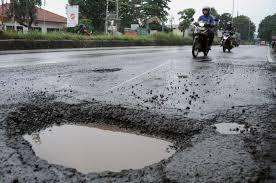Pothole: (0, 100, 188, 180), (210, 118, 251, 137), (93, 66, 122, 74)
